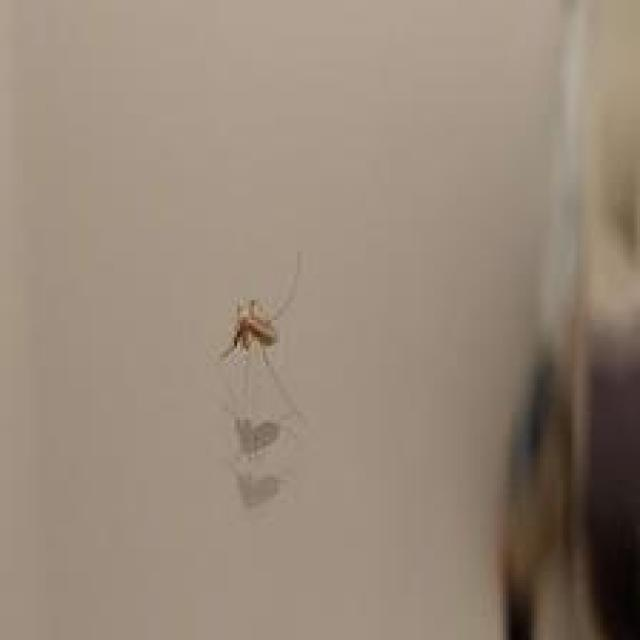Culex: (213, 250, 313, 510)
